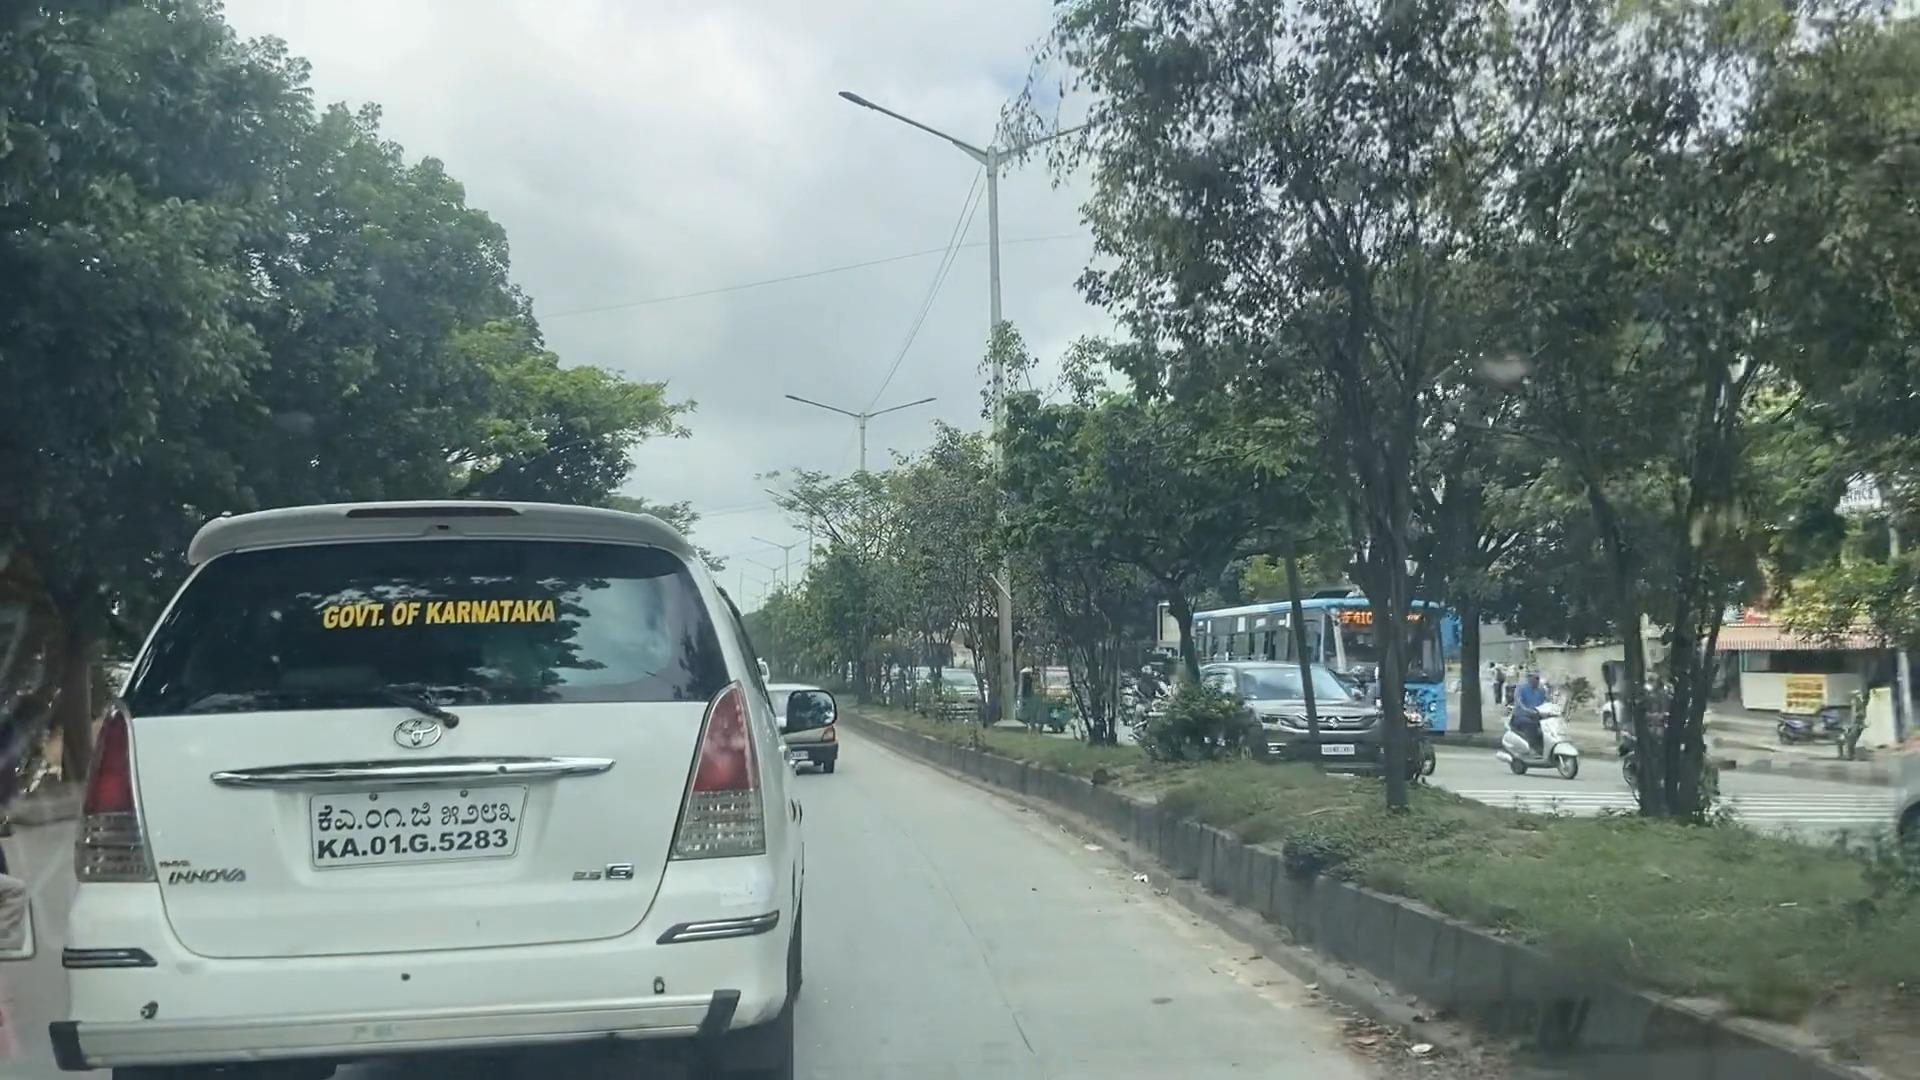LMV: (1490, 654, 1592, 785)
